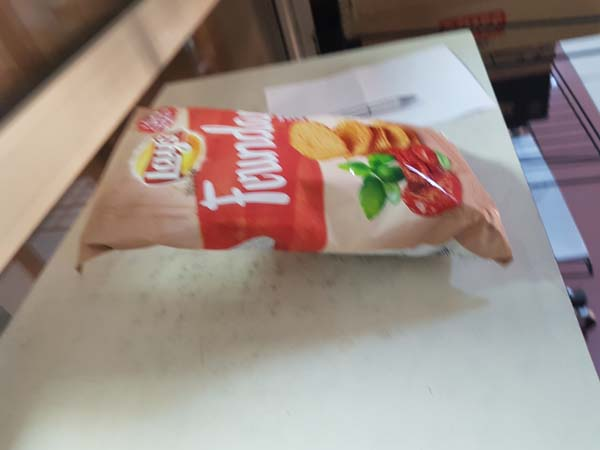laysfirindan: (70, 102, 521, 272)
